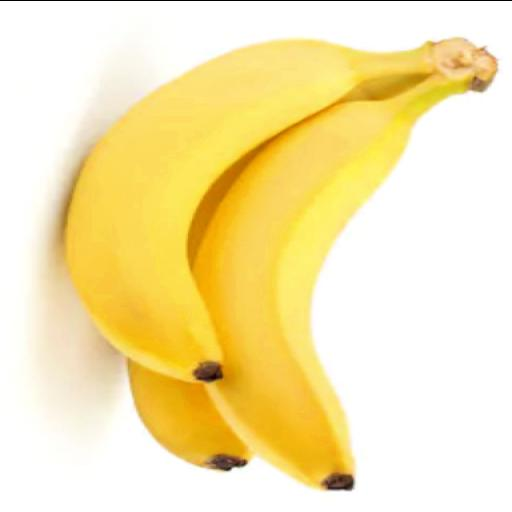banana: (65, 39, 441, 380), (193, 55, 473, 488), (277, 91, 443, 367), (128, 361, 251, 469), (128, 362, 252, 469)
